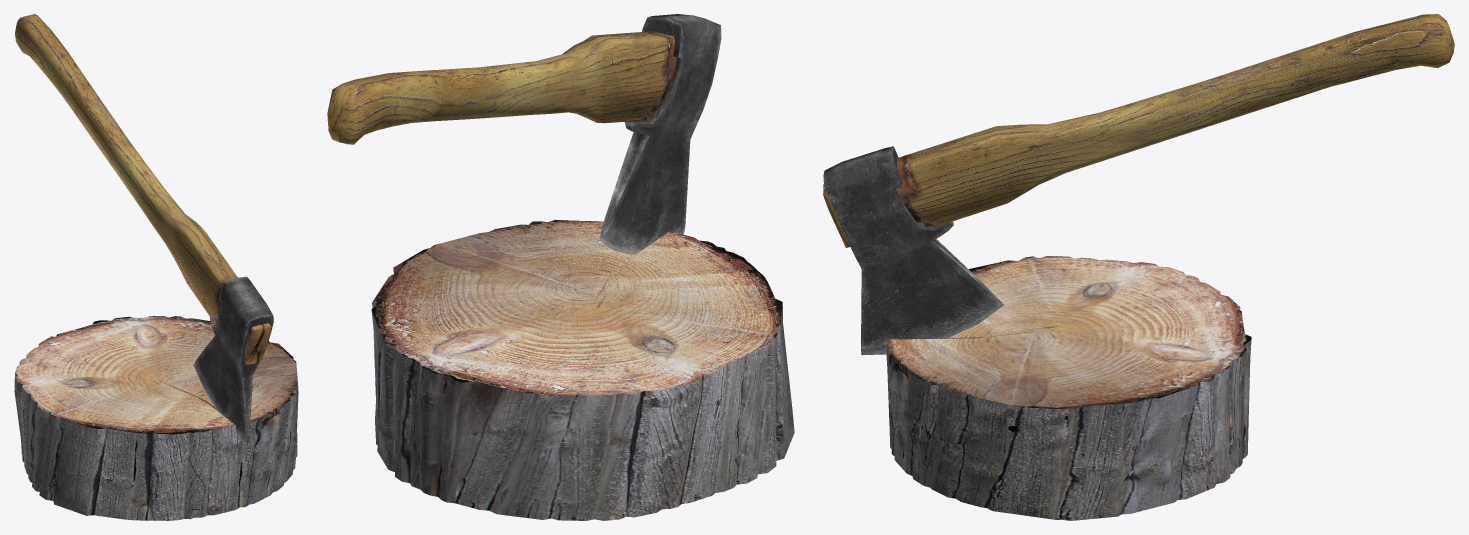
Rendered from Axe.dae.
3 views of the same model, side by side, from view 1: azimuth 30°, elevation 25°; view 2: azimuth 150°, elevation 25°; view 3: azimuth 270°, elevation 25° (orthographic). The views are drawn at different scales.
Parts seen in each view (by area): view 1: Wood_block, Axe; view 2: Wood_block, Axe; view 3: Wood_block, Axe.
Boxes of the visible parts, x1,y1,x2,y2 form: Wood_block: (14, 316, 298, 520); Axe: (15, 14, 273, 445); Wood_block: (371, 219, 794, 520); Axe: (327, 14, 721, 254); Wood_block: (886, 256, 1251, 520); Axe: (823, 14, 1454, 355).
Size of the model in its own units: 1.56 by 2.66 by 2.01.
3 materials, 3 textured.
